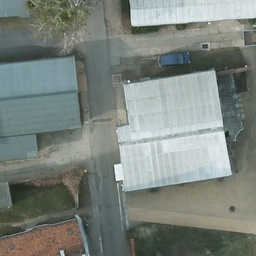car: (157, 51, 188, 67)
